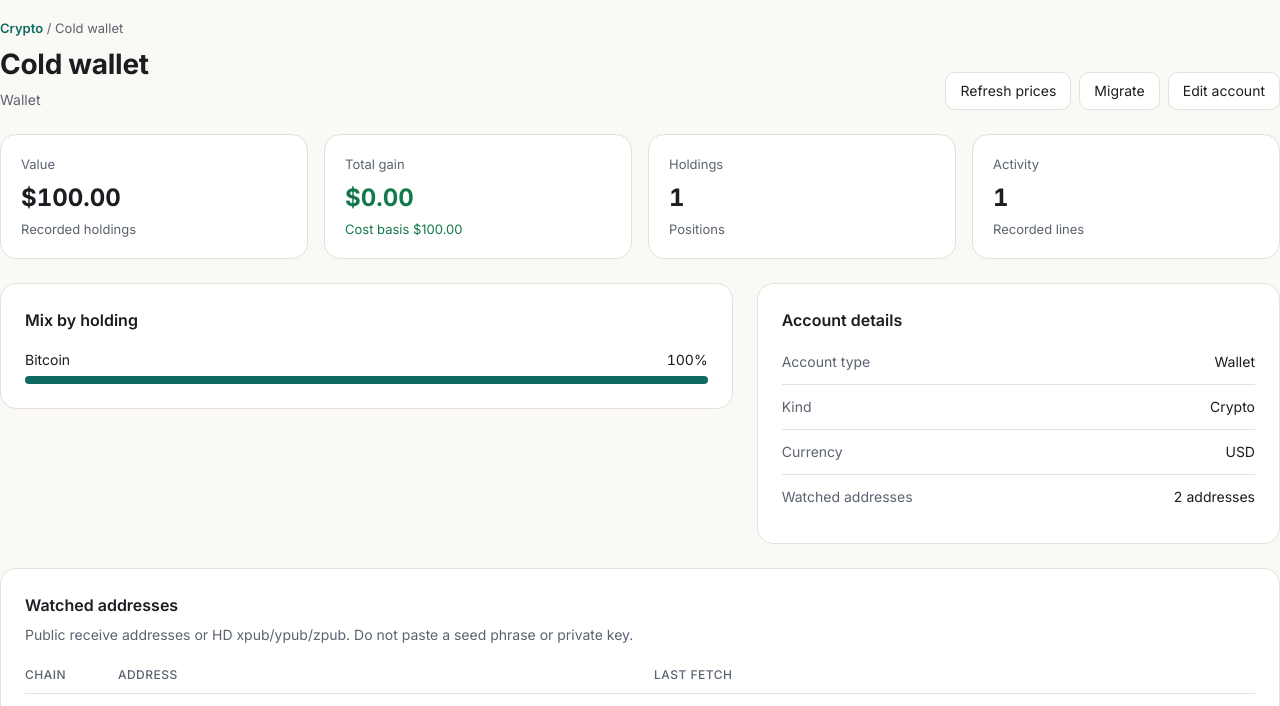
Test: InvestmentDetailPage migrate › moves holdings, activity, and unique watched addresses then removes the source
Click the button "Migrate". click: coordinates (1120, 91)
box: top-left (1079, 72), bottom-right (1160, 110)
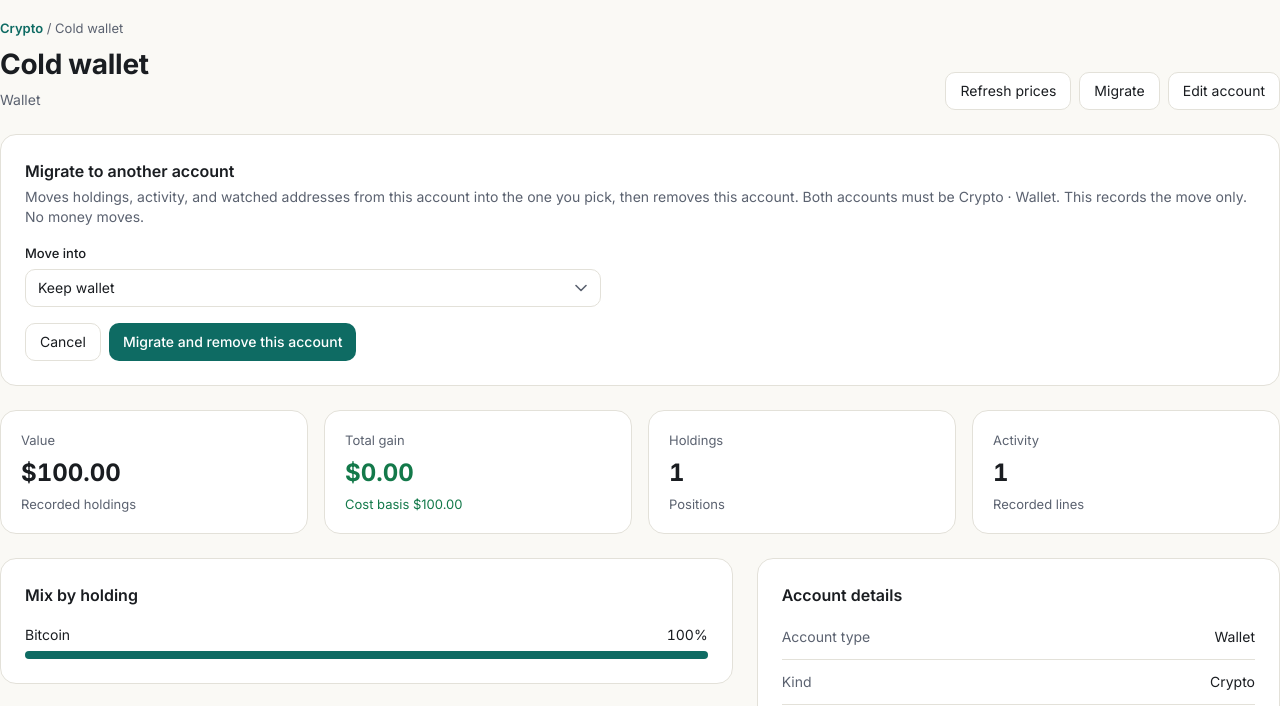
Click the button "Migrate and remove this account". click: coordinates (233, 342)
box: top-left (109, 323), bottom-right (356, 361)
(page scrolled)
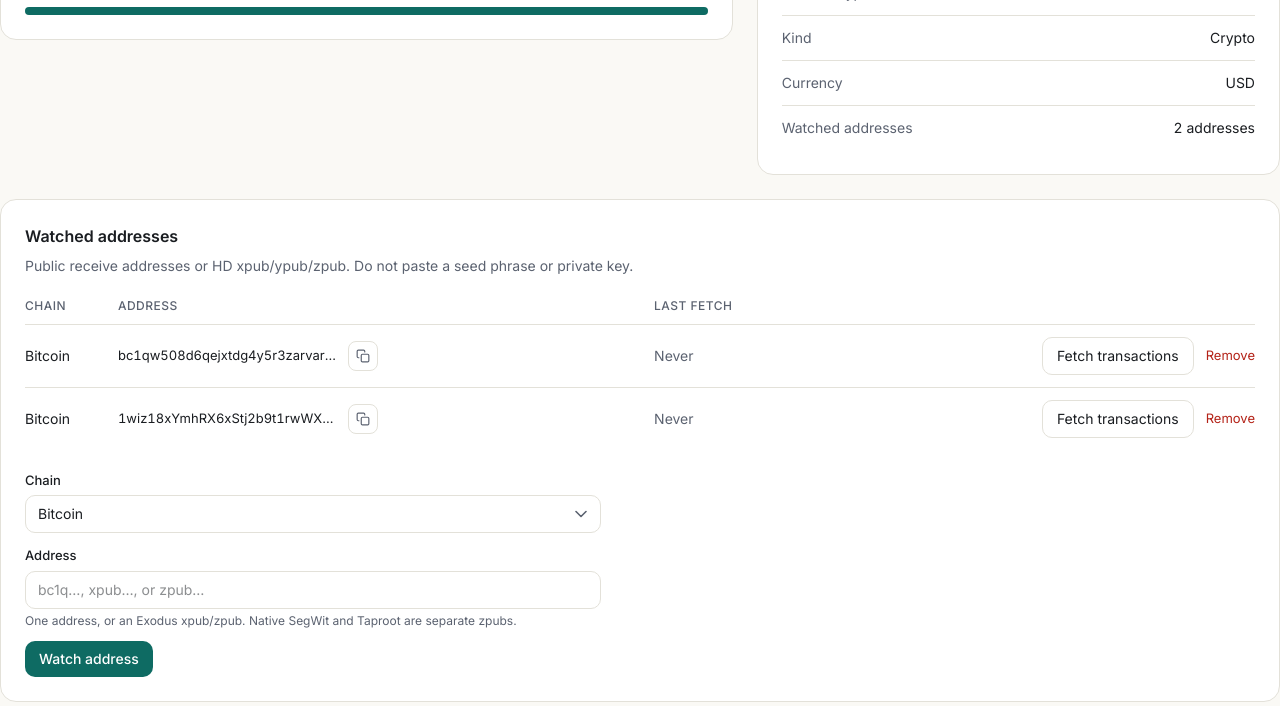
expect the text "1wiz18xYmhRX6xStj2b9t1rwWX4GKUgpv" is shown once: met, box top-left (118, 410), bottom-right (340, 428)
expect the text "bc1qw508d6qejxtdg4y5r3zarvary0c5xw7kv8f3t4" is shown: met, box top-left (118, 346), bottom-right (340, 365)
